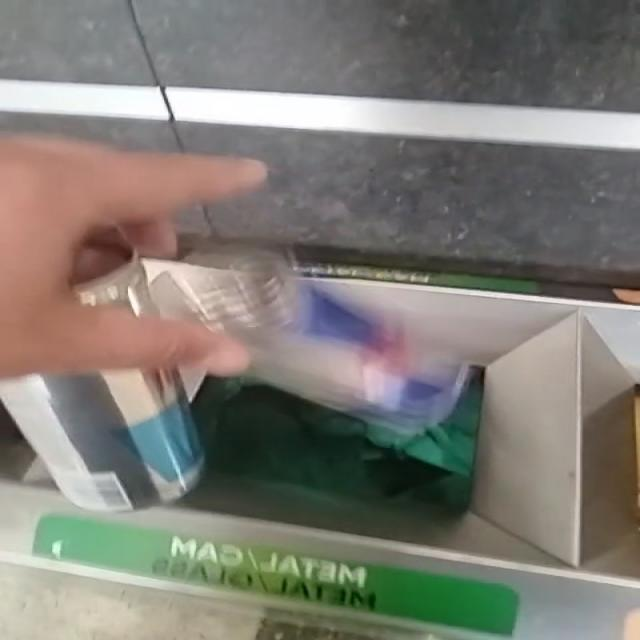Metal: (139, 244, 468, 440)
